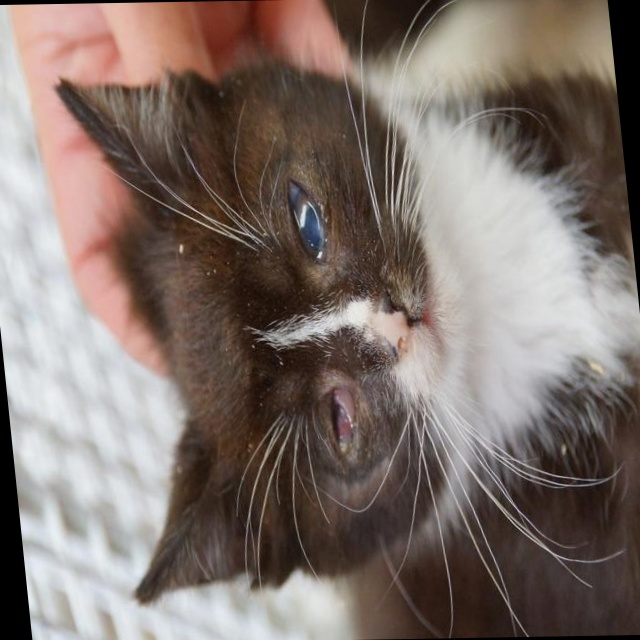eye_infection: (316, 384, 372, 463)
